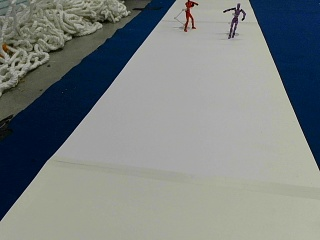pedestrian: (223, 2, 245, 38), (182, 0, 198, 31)
